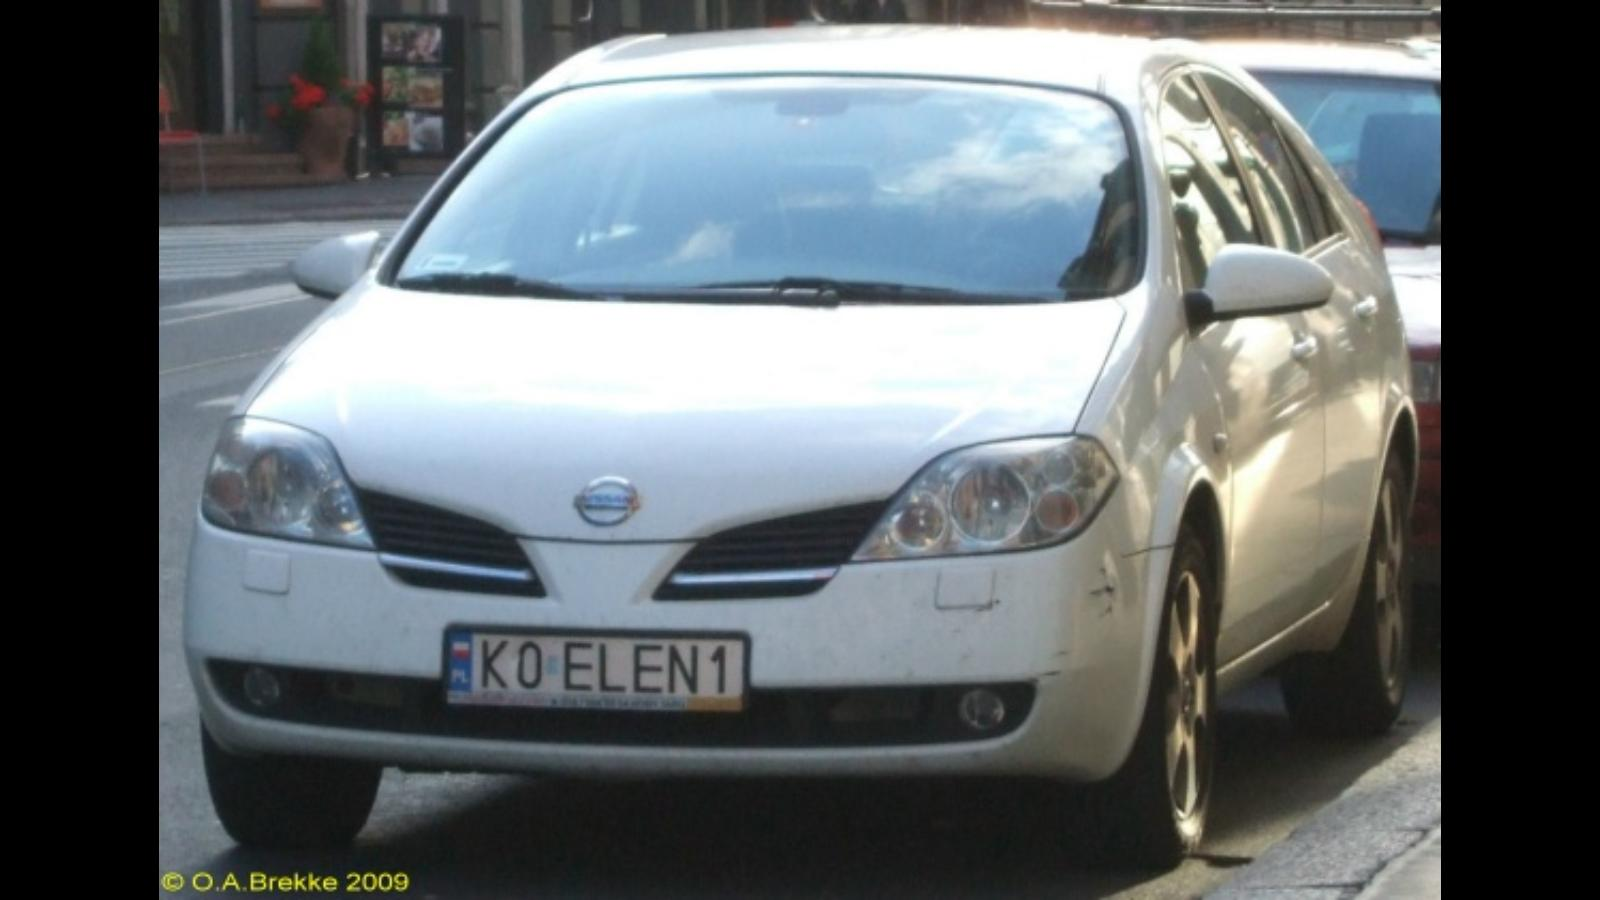plates: (442, 622, 752, 710)
